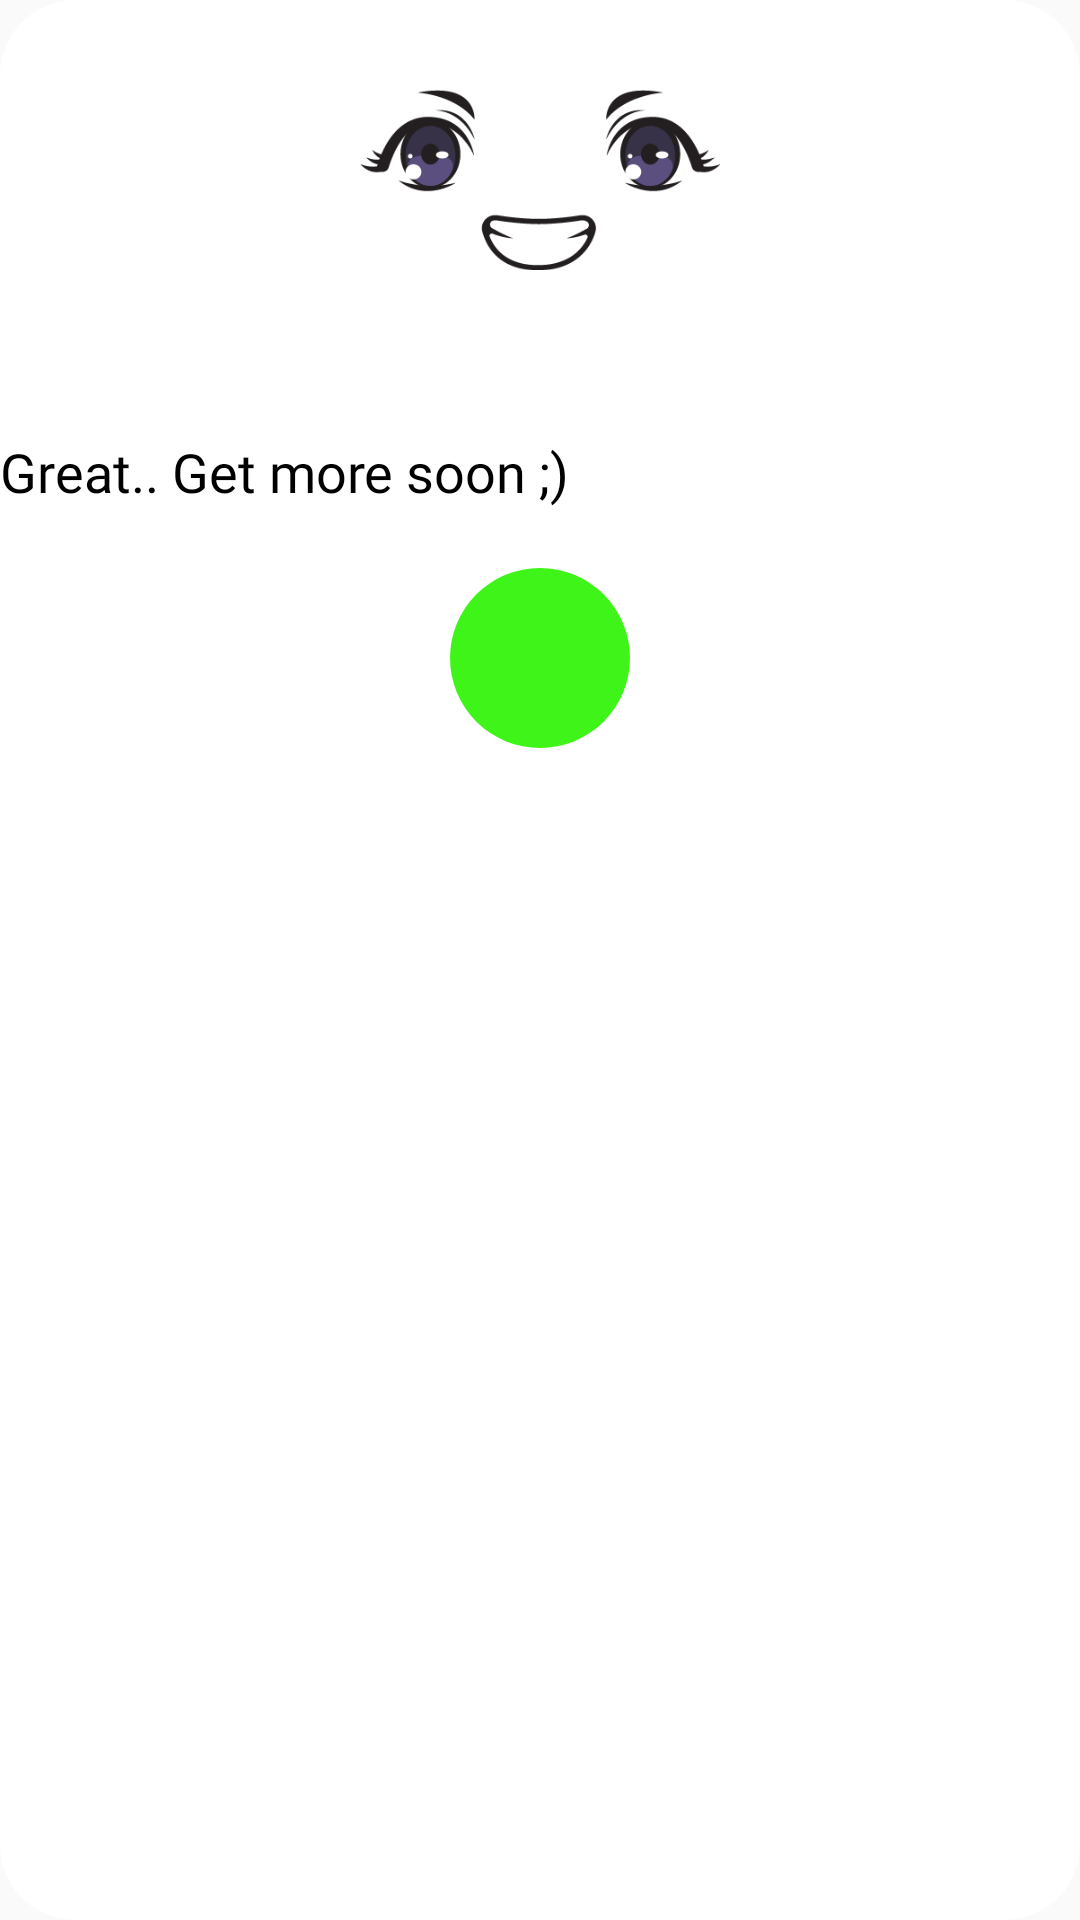

Icons on this 1080x1920 Android screen, each with the point to tap as (x,y):
happy: (540,180)
